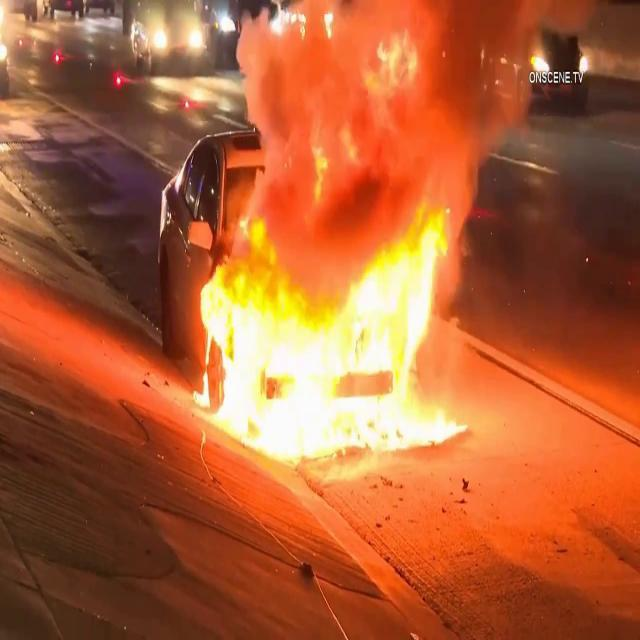Fire: (195, 234, 496, 465)
Smoke: (213, 0, 588, 244)
